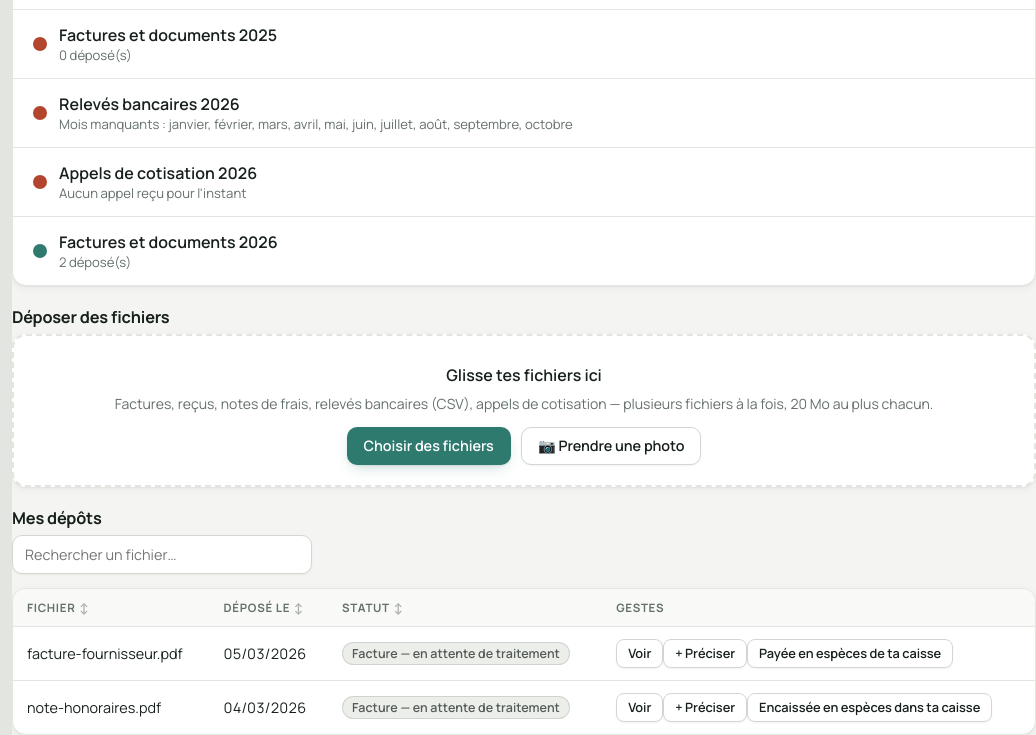
Scenario: le drapeau levé › sur la pièce qu’elle porte : la phrase de la base avant le clic, ni formulaire ni « Enregistrer » ; l’autre pièce se paie
The image size is (1036, 735).
(page scrolled)
Check: the text "facture-fournisseur.pdf" is shown, box x1=13 y1=626 x2=210 y2=680
Click the button "Encaissée en espèces dans ta caisse": point(870, 708) x1=747 y1=693 x2=992 y2=722
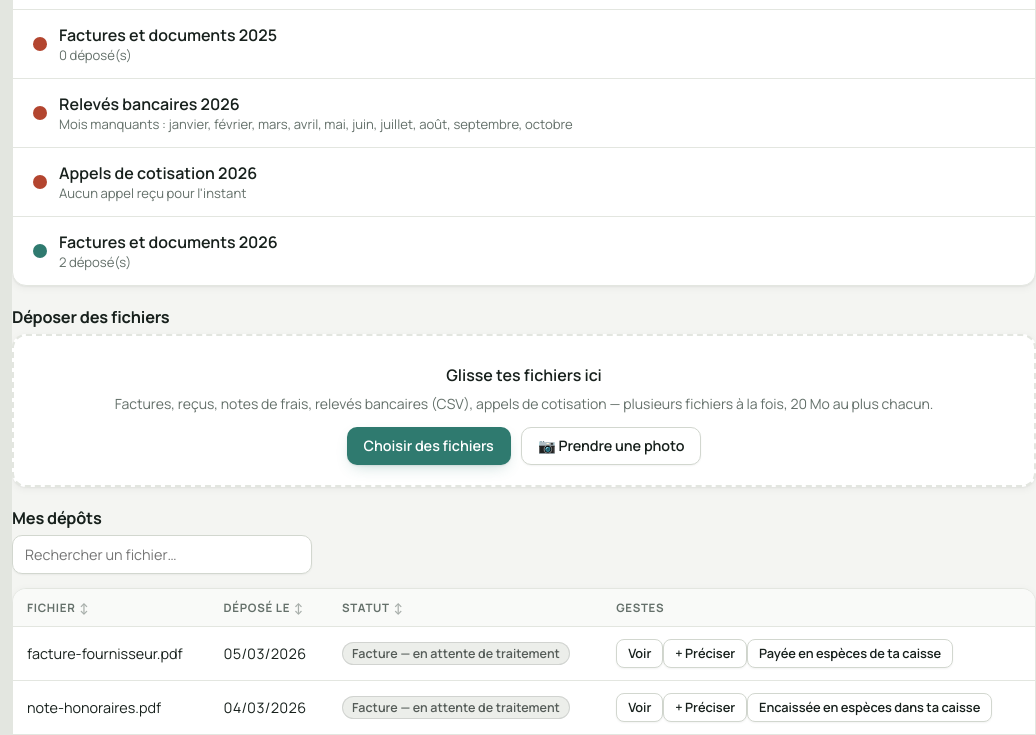
Check: the button "Enregistrer" is not shown
Click the button "Payée en espèces de ta caisse": point(850, 653) x1=747 y1=639 x2=953 y2=668
(page scrolled)
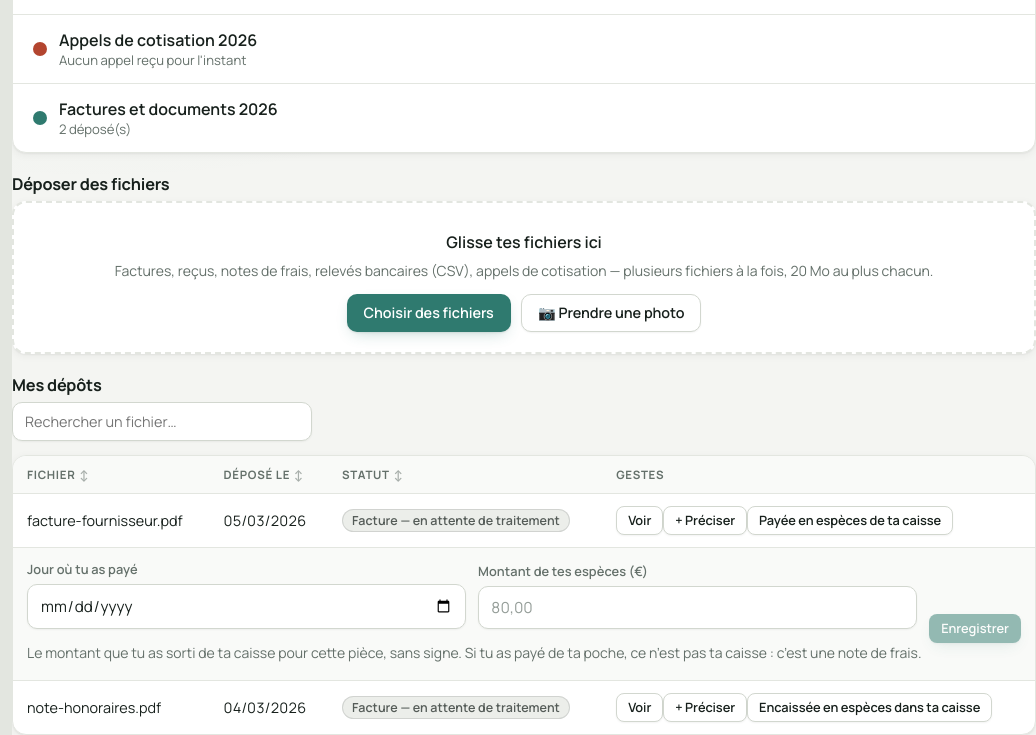
Check: the date field labelled "Jour où tu as payé" is shown, box x1=27 y1=584 x2=466 y2=629
